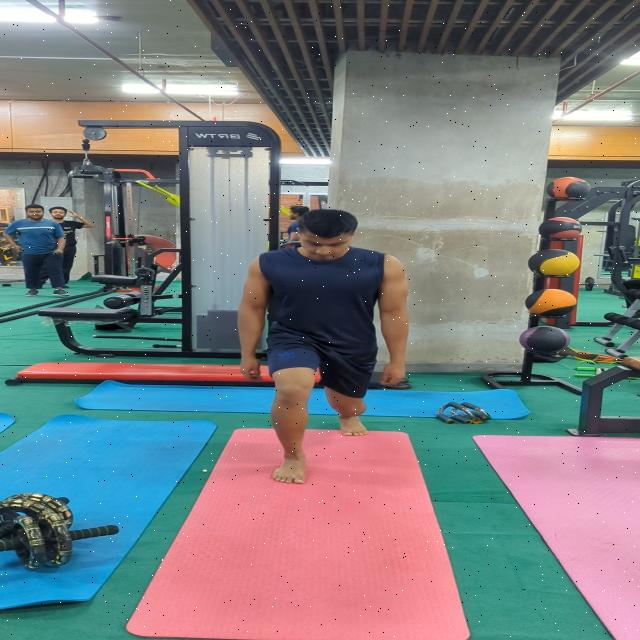Normal_Lunges: (230, 204, 414, 487)
